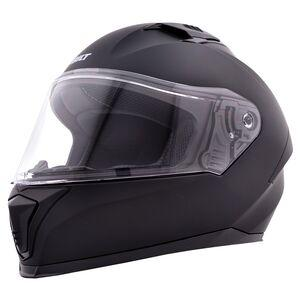Helmet: (6, 22, 294, 279)
